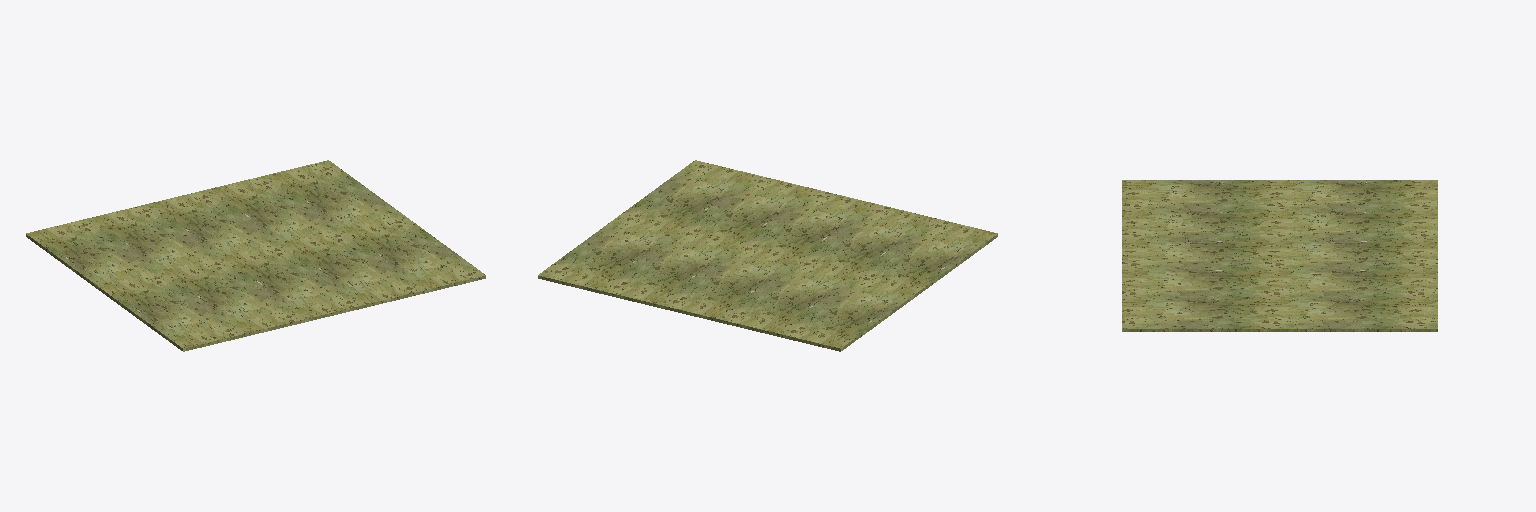
The picture shows the model from 3 angles: view 1: azimuth 30°, elevation 25°; view 2: azimuth 150°, elevation 25°; view 3: azimuth 270°, elevation 25°; orthographic projection.
Parts seen in each view (by area): view 1: Piso; view 2: Piso; view 3: Piso.
Boxes of the visible parts, <box> form: Piso: <box>26,160,485,351</box>; Piso: <box>538,160,997,351</box>; Piso: <box>1122,180,1437,331</box>.
Size of the model in its own units: 20 by 0.2349 by 18.
Materials: 1 (1 with a texture image).